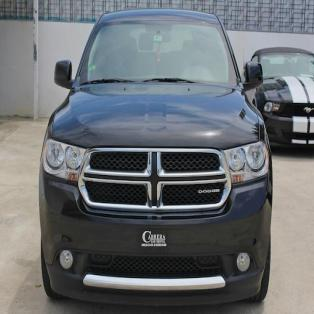Auto: (38, 9, 272, 307)
